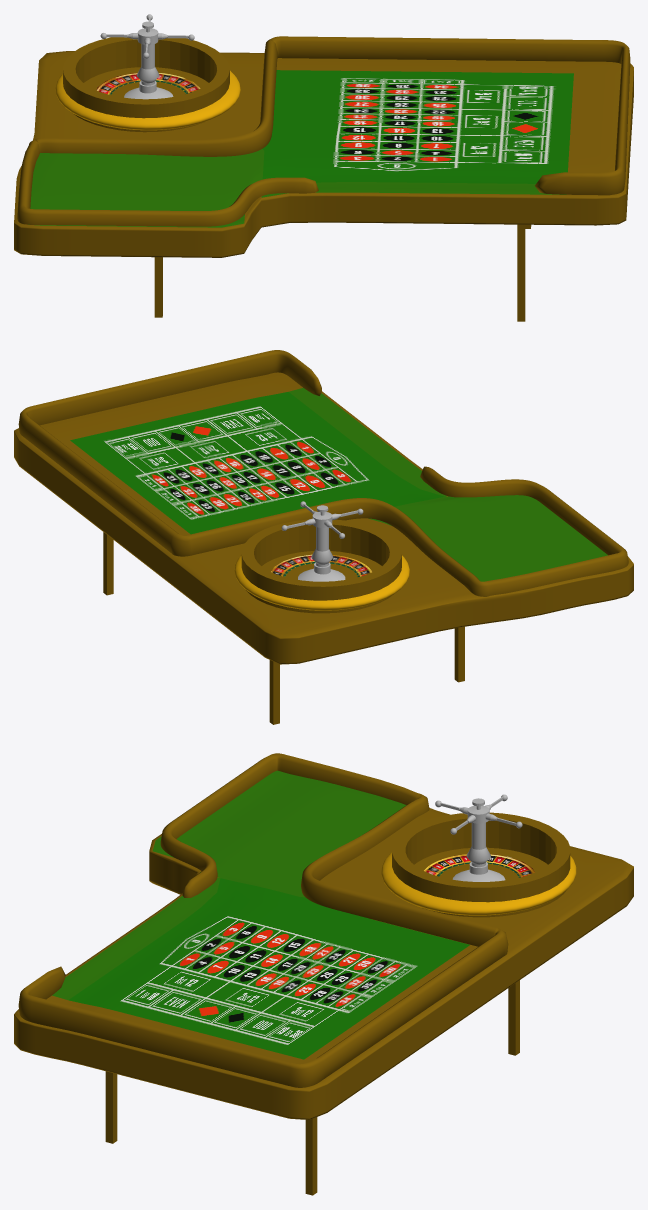
The model's file is roulette_table.glb.
3 views of the same model, one above another, from view 1: azimuth 30°, elevation 25°; view 2: azimuth 150°, elevation 25°; view 3: azimuth 270°, elevation 25° (orthographic). The views are drawn at different scales.
Parts seen in each view (by area): view 1: polySurface2558, polySurface2550, polySurface2555, polySurface2556, polySurface2557, polySurface2554, polySurface2559, polySurface2553; view 2: polySurface2558, polySurface2550, polySurface2555, polySurface2556, polySurface2557, polySurface2559, polySurface2552, polySurface2551, polySurface2553; view 3: polySurface2558, polySurface2550, polySurface2555, polySurface2556, polySurface2557, polySurface2551, polySurface2554, polySurface2559, polySurface2552.
Boxes of the visible parts, x1,y1,x2,y2 form: polySurface2558: (14,51,633,257); polySurface2550: (17,36,630,226); polySurface2555: (63,37,229,132); polySurface2556: (55,70,240,130); polySurface2557: (96,73,200,94); polySurface2554: (517,224,525,321); polySurface2559: (136,44,159,93); polySurface2553: (154,257,162,317); polySurface2558: (14,372,633,664); polySurface2550: (18,350,628,596); polySurface2555: (241,519,401,613); polySurface2556: (234,555,409,610); polySurface2557: (271,554,372,576); polySurface2559: (311,527,333,574); polySurface2552: (269,660,279,724); polySurface2551: (103,532,113,595); polySurface2553: (454,626,464,682); polySurface2558: (14,770,633,1119); polySurface2550: (18,753,508,1087); polySurface2555: (392,812,570,917); polySurface2556: (381,852,576,915); polySurface2557: (424,854,534,877); polySurface2551: (305,1117,317,1195); polySurface2554: (105,1071,117,1143); polySurface2559: (466,822,490,874); polySurface2552: (508,980,519,1055).
Bounding box in the file's own units: 1.29 × 0.4326 × 1.03.
Materials: 12 (2 with a texture image).
